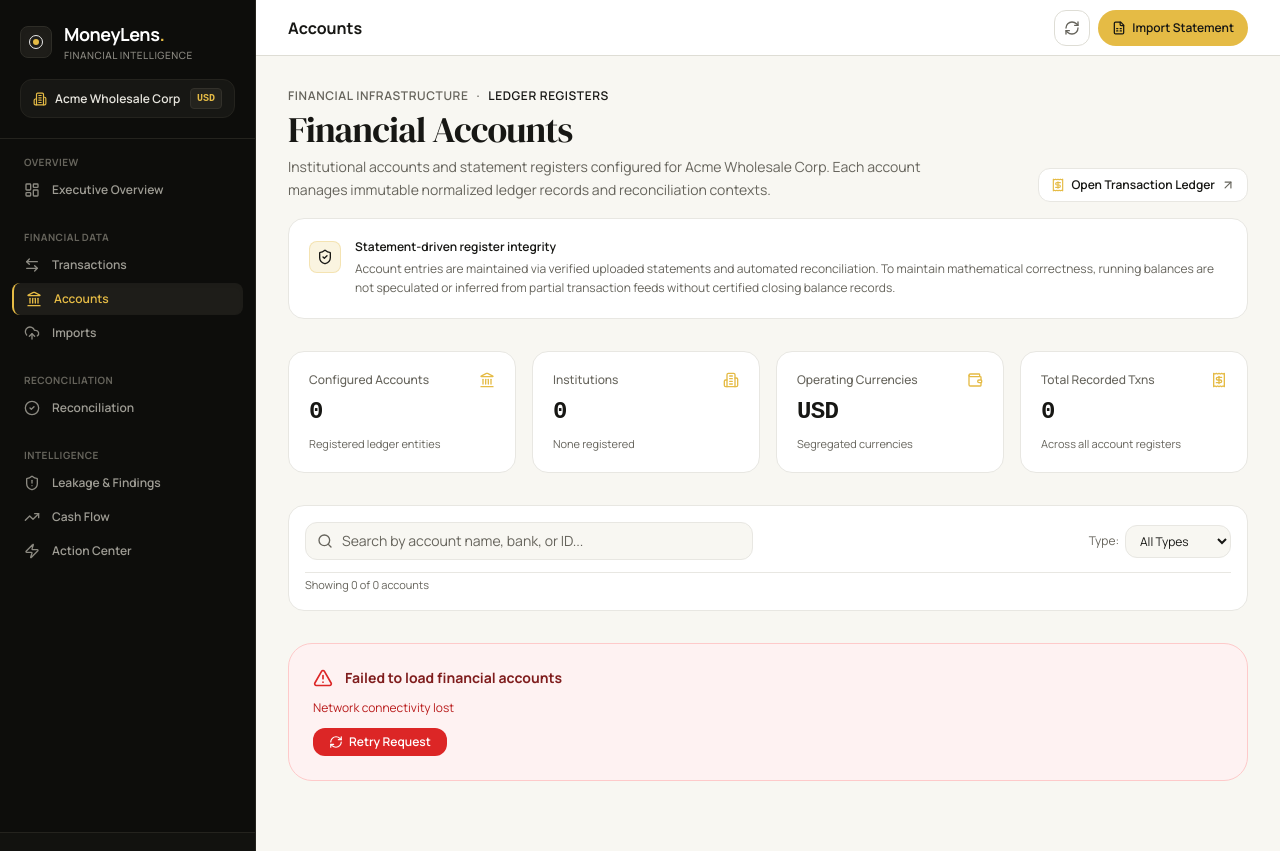
Scenario: MoneyLens Financial Accounts Page Component Suite › handles error state gracefully with retry button
The width and height of the screenshot is (1280, 851).
Expected: the message "Failed to load financial accounts Network connectivity lost Retry Request" is shown, [288,642,1248,780]
Expected: the heading "Failed to load financial accounts" is shown, [345,668,562,688]
Click the button "Retry Request": click(380, 742) [313,728,447,756]
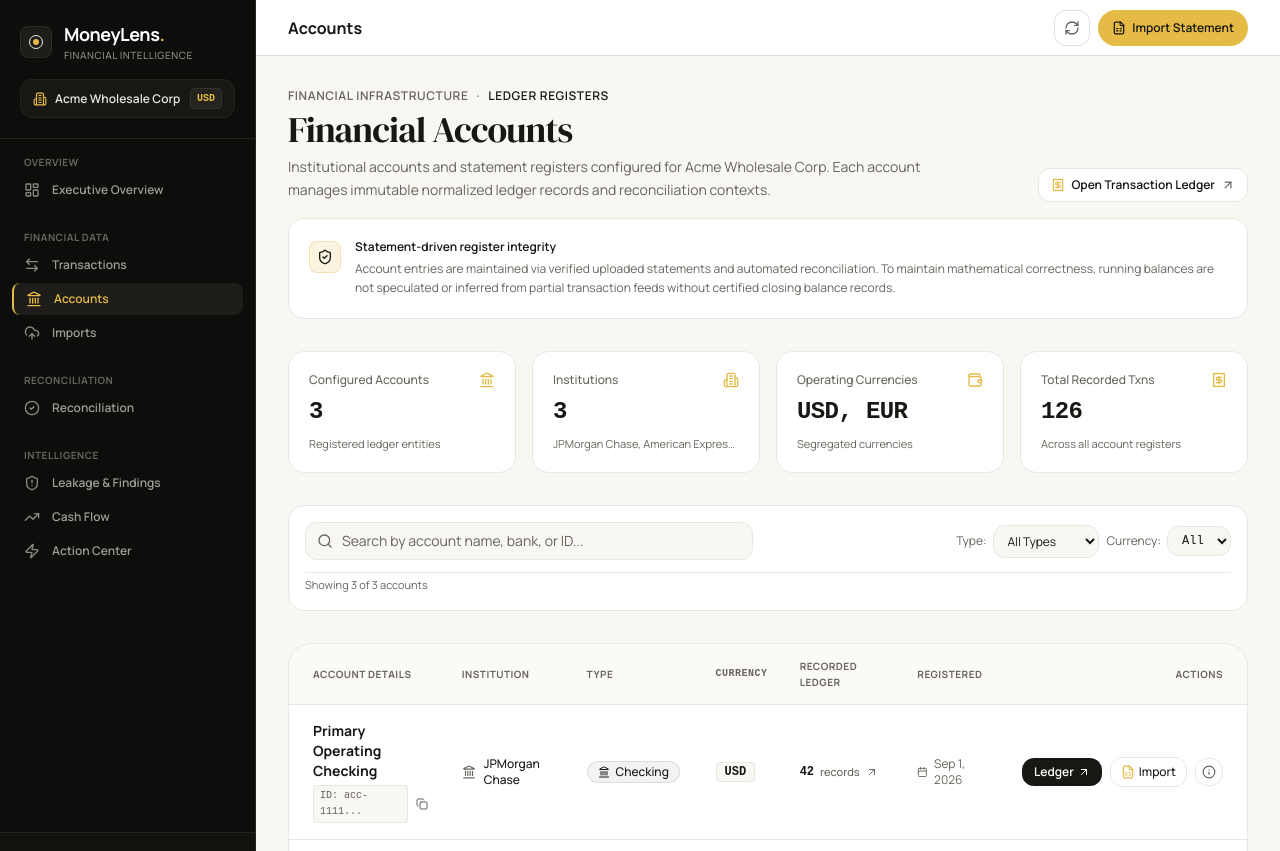
Now the text "Primary Operating Checking" is shown, box [313,720,381,780]
